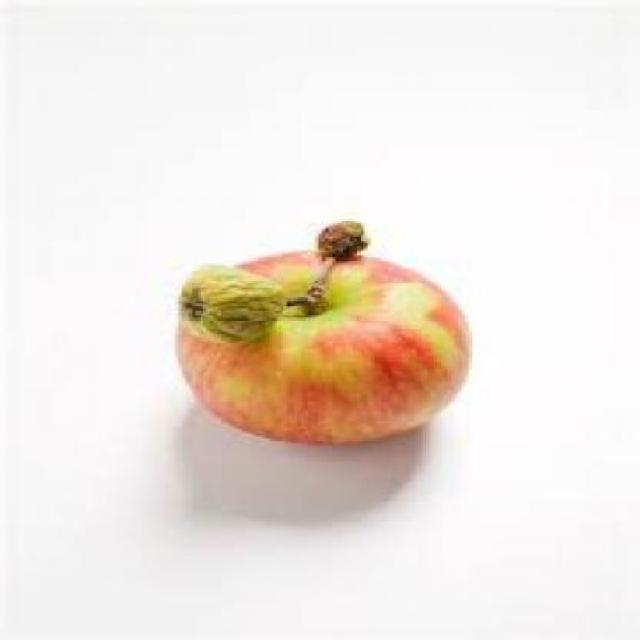BIODEGRADABLE: (178, 215, 472, 443), (182, 259, 290, 341), (318, 221, 371, 262)
